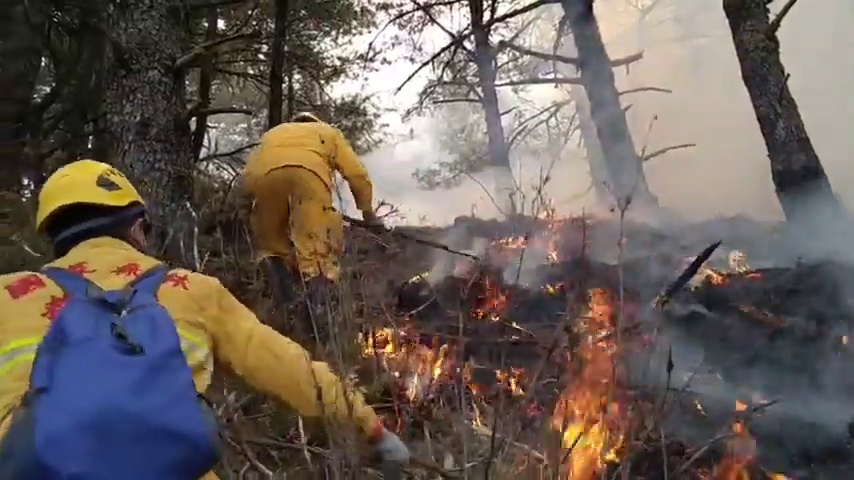fire: (552, 382, 621, 480), (361, 326, 446, 383), (578, 290, 613, 359), (720, 415, 755, 480), (727, 249, 751, 274)
